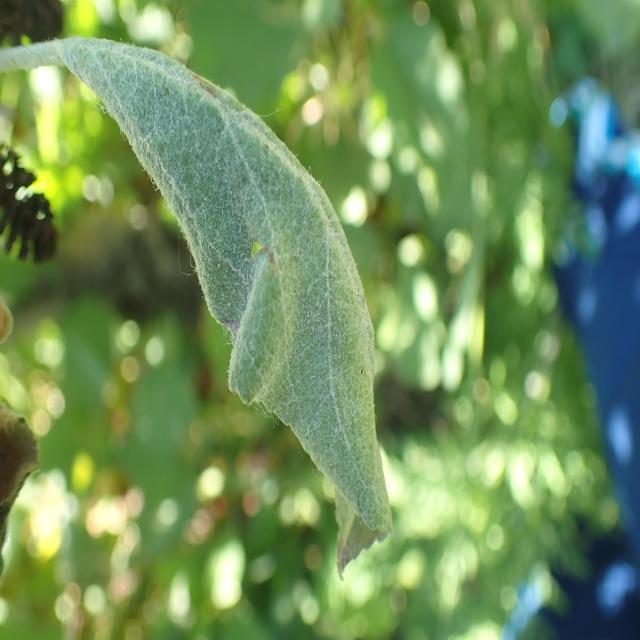Powdery_mildew: (62, 35, 397, 567)
